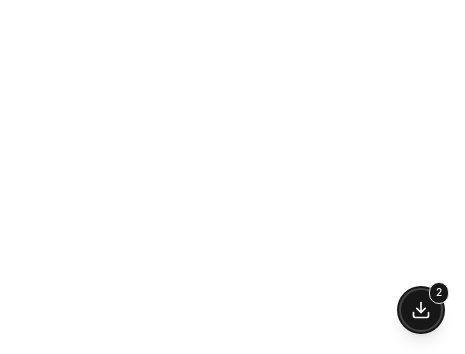
Test: DownloadQueuePanel › opens the panel and switches between download and optional tabs
Click the button named "Download Queue". click: (421, 310)
box: 397,286 -> 445,334
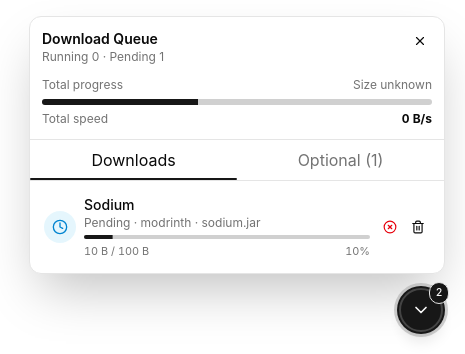
Check: the text "Sodium" is shown, box 84,196 -> 134,213
Click the tab "Optional (1)". click: (340, 160)
box: 237,140 -> 444,180
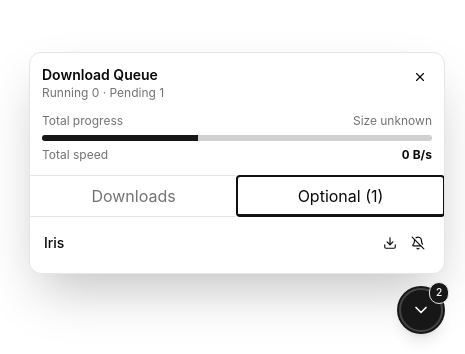
Check: the text "Iris" is shown, box 44,233 -> 64,253
Check: the text "Sodium" is gone
